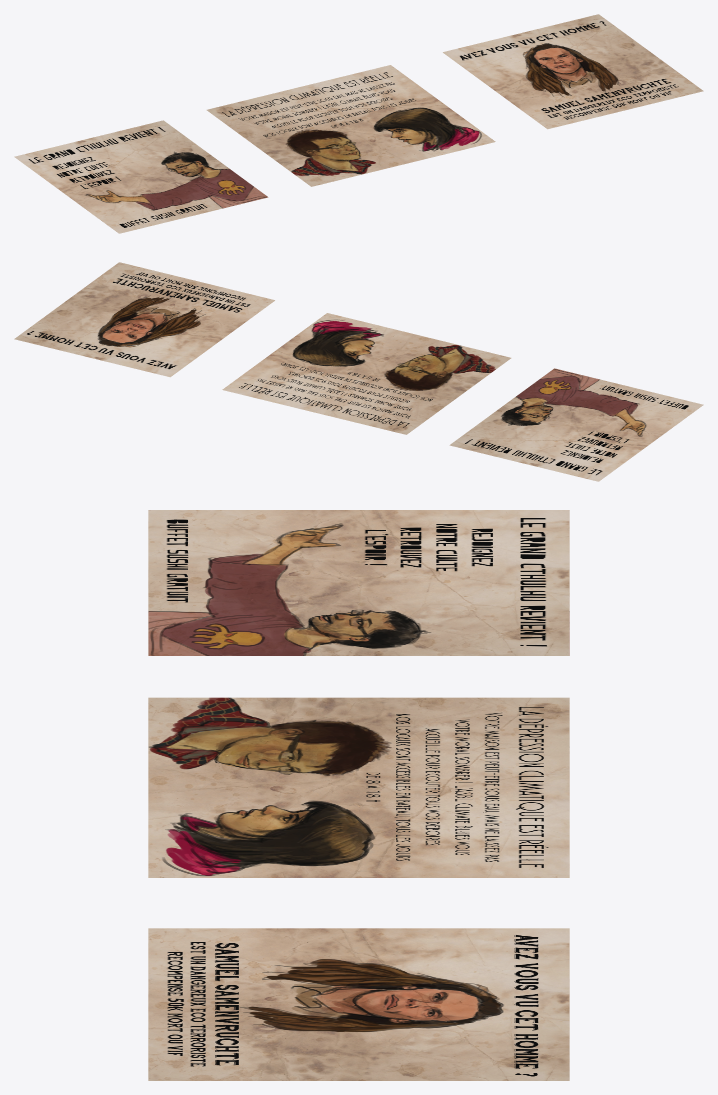
The model's file is affichebis.fbx.
The picture shows the model from 3 angles, top to bottom: view 1: azimuth 30°, elevation 25°; view 2: azimuth 150°, elevation 25°; view 3: azimuth 270°, elevation 25°; orthographic projection. The views are drawn at different scales.
Visible parts, largest first — view 1: pPlane2, pPlane3, pPlane1; view 2: pPlane2, pPlane3, pPlane1; view 3: pPlane2, pPlane3, pPlane1.
Boxes of the visible parts, x1,y1,x2,y2 form: pPlane2: [206, 65, 495, 186]; pPlane3: [443, 14, 703, 129]; pPlane1: [14, 120, 268, 233]; pPlane2: [222, 313, 511, 434]; pPlane3: [14, 262, 274, 377]; pPlane1: [449, 368, 703, 481]; pPlane2: [148, 697, 569, 877]; pPlane3: [148, 928, 569, 1080]; pPlane1: [148, 510, 569, 655].
Bounding box in the file's own units: 110 × 1.03e-14 × 34.45.
3 materials, 3 textured.
